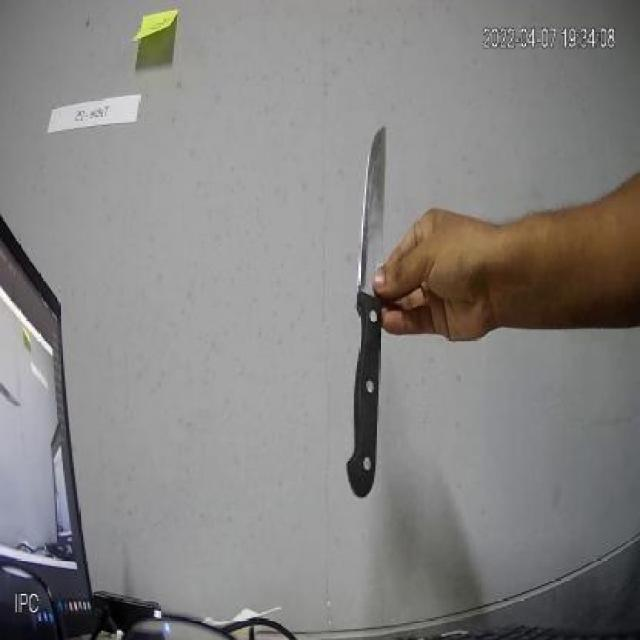-: (354, 102, 403, 523)
